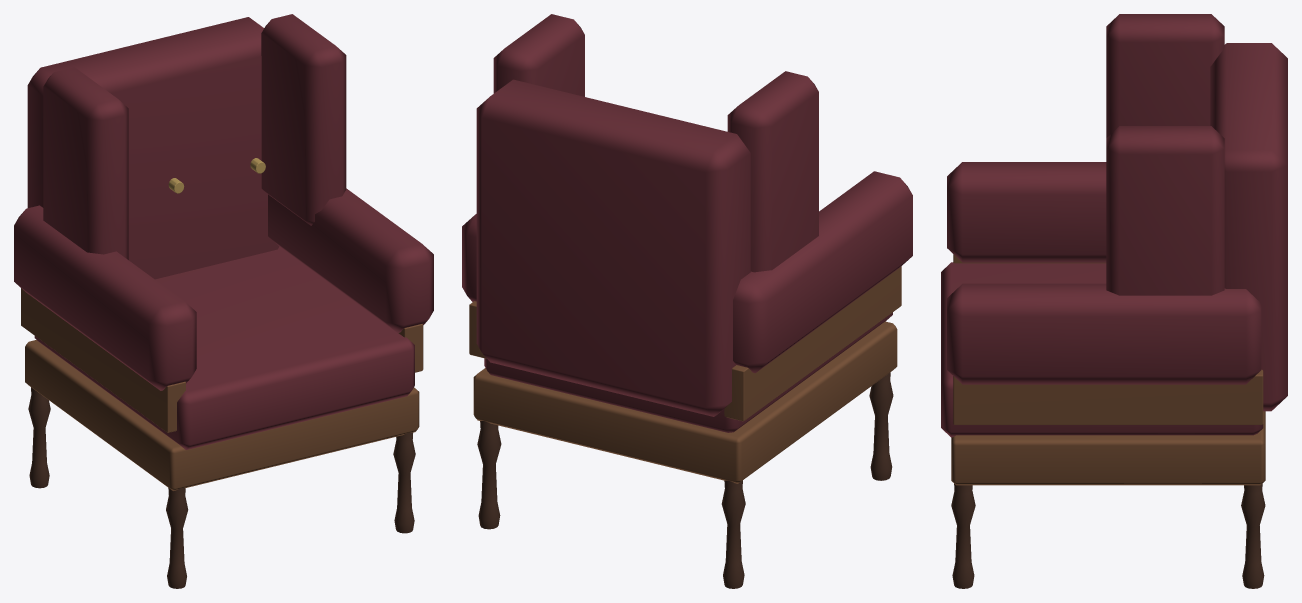
The model's file is rpg-mansion-wing-chair-01.glb.
3 renders of one model, left to right at view 1: azimuth 30°, elevation 25°; view 2: azimuth 150°, elevation 25°; view 3: azimuth 270°, elevation 25°, orthographic. The views are drawn at different scales.
Parts seen in each view (by area): view 1: rpg-mansion-wing-chair-01; view 2: rpg-mansion-wing-chair-01; view 3: rpg-mansion-wing-chair-01.
Boxes of the visible parts, bbox=[...] form: rpg-mansion-wing-chair-01: bbox=[14, 14, 433, 588]; rpg-mansion-wing-chair-01: bbox=[462, 14, 912, 588]; rpg-mansion-wing-chair-01: bbox=[941, 14, 1287, 588].
Size of the model in its own units: 0.85 by 1.22 by 0.85.
